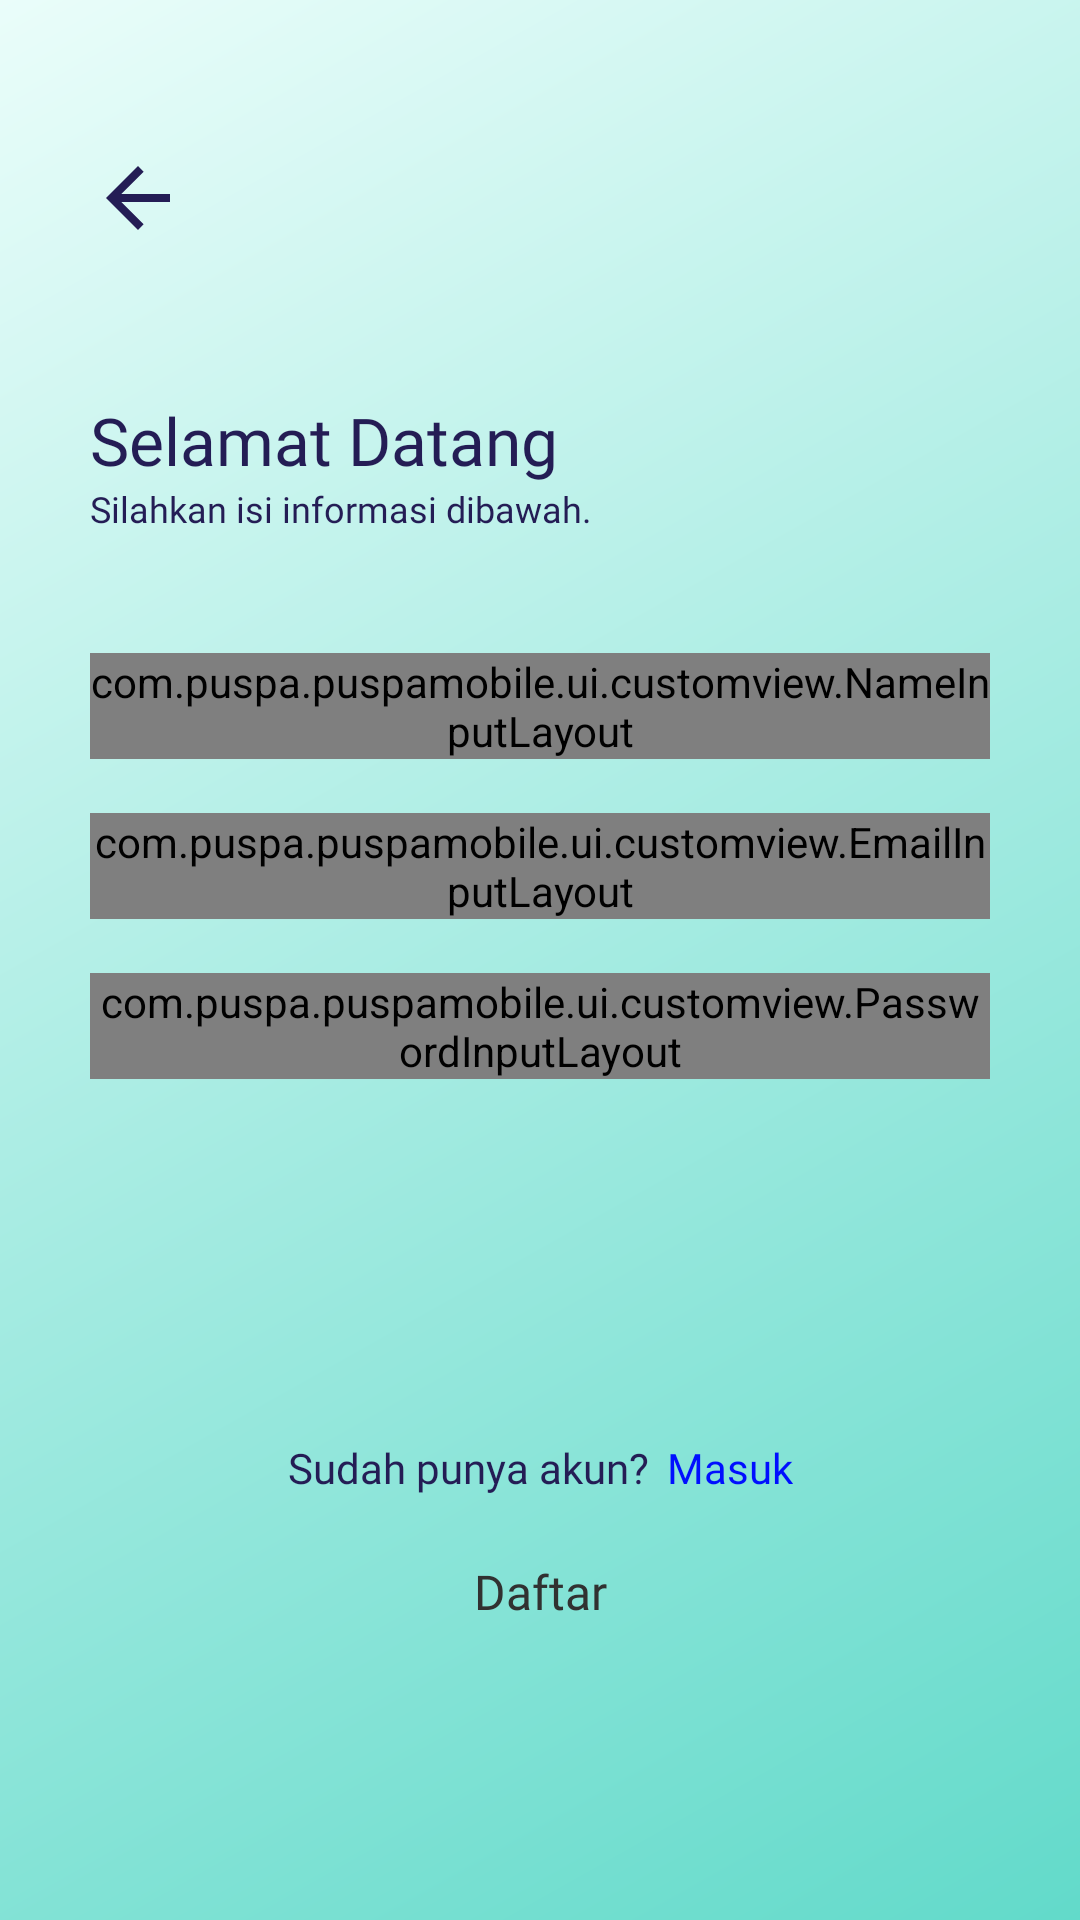

Screen size 1080×1920. Icon name, then its center in pixels as [x,y]:
arrow back: [138,198]
